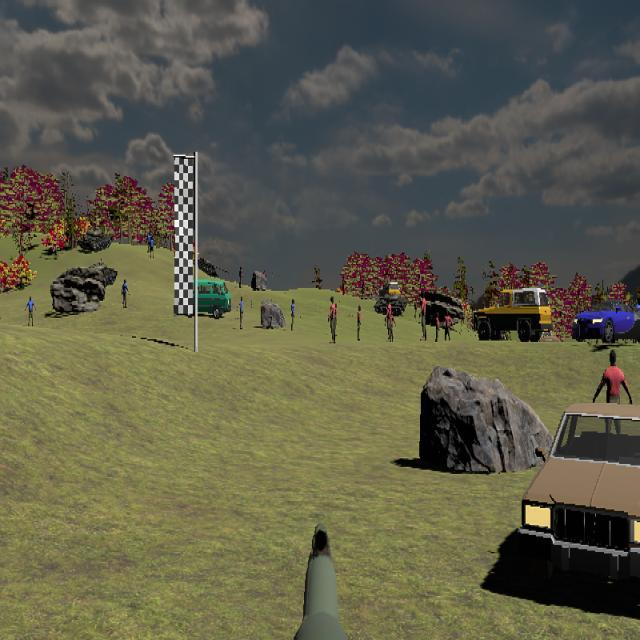Human: (592, 350, 633, 445), (25, 295, 36, 328)
Tank: (77, 225, 114, 252), (374, 294, 407, 316)
car: (521, 396, 640, 593), (473, 287, 552, 342), (574, 300, 639, 343), (178, 279, 232, 319)
